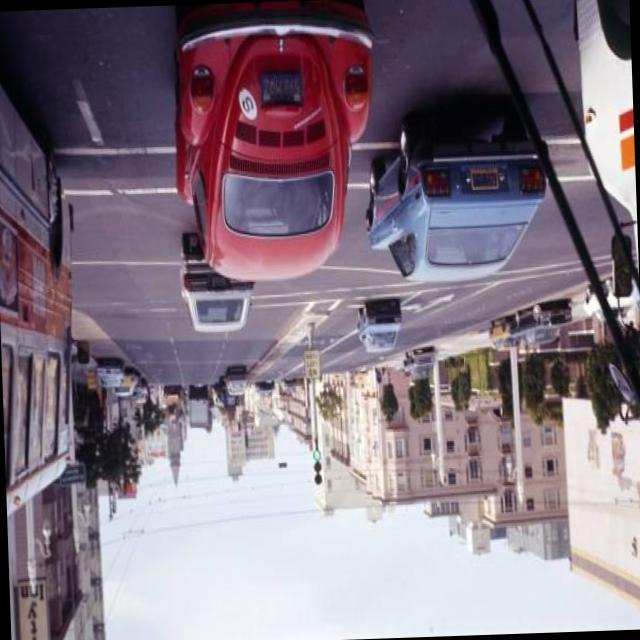car: (171, 0, 369, 280), (360, 116, 550, 280), (176, 232, 250, 334), (519, 304, 573, 352), (358, 298, 399, 357), (222, 364, 250, 396), (99, 358, 122, 392)
